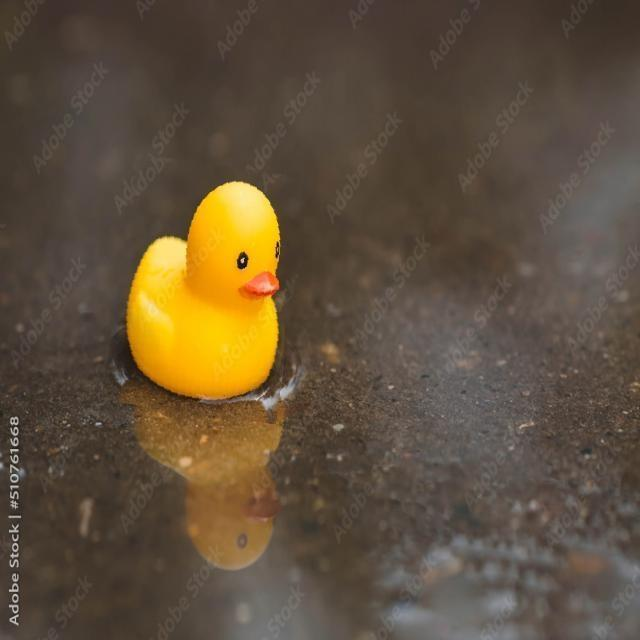rubber-duck: (126, 181, 278, 397)
